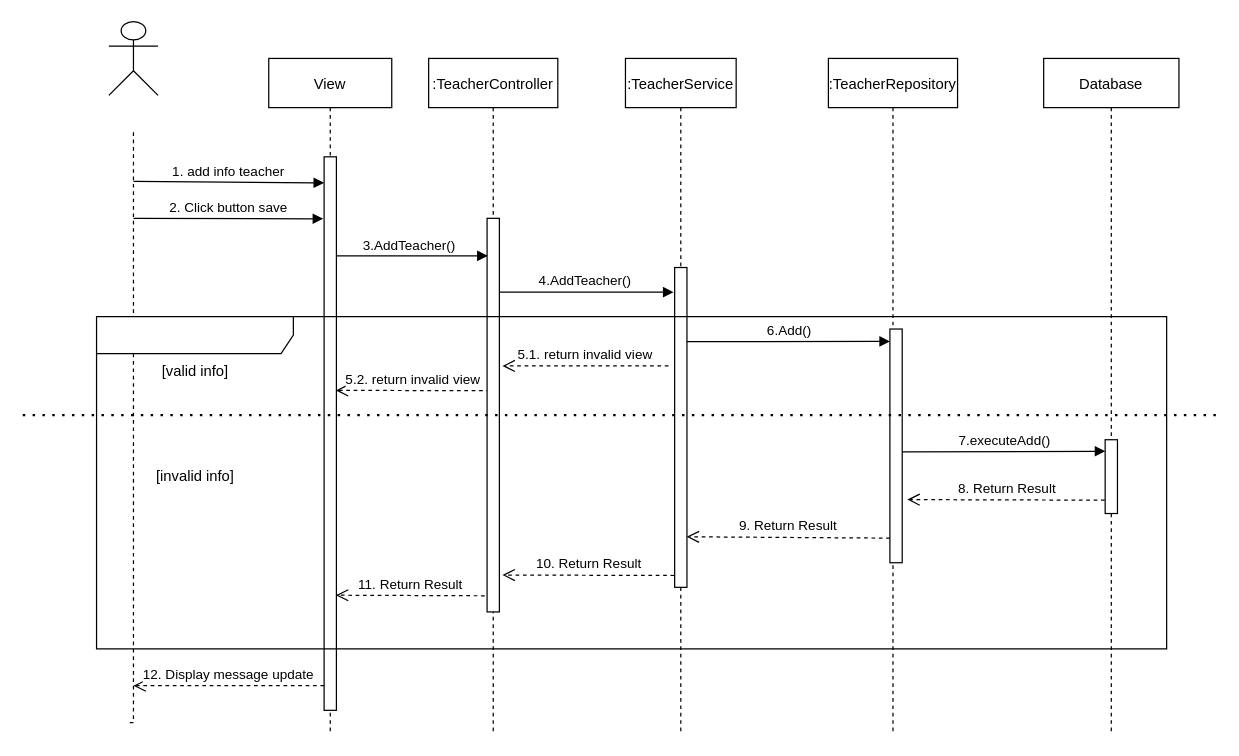
Some shapes in this 1239 by 756 pixel diagram are drawn without their labels. The shapes that lost their labels are listed below. From the top down, each one's centre as x and y in pixels, then its label:
At [133,57]: "User".
At [631,482]: "alt validate infor teacher".
